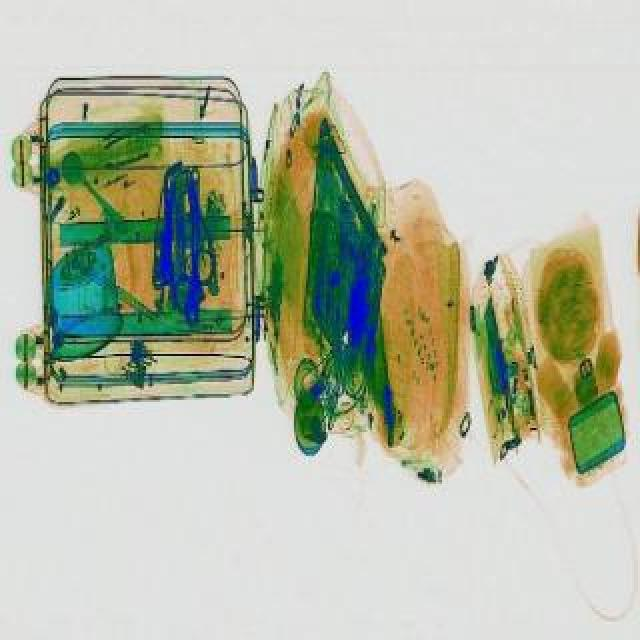scissors: (184, 164, 210, 324)
